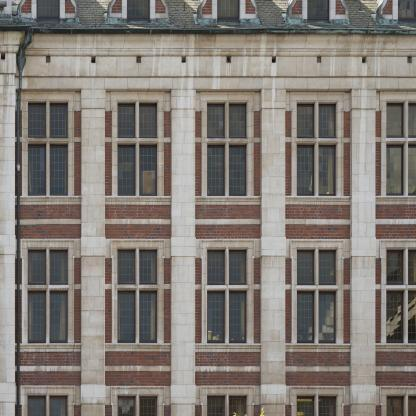Building Outline: (0, 0, 416, 416)
Facade: (15, 34, 415, 414)
Floor: (15, 56, 416, 226), (15, 226, 416, 373)
Floor Slab: (15, 219, 416, 226), (15, 366, 416, 373), (15, 49, 416, 56)
Ground Floor: (15, 372, 416, 415)
Pillar: (80, 89, 106, 416), (170, 89, 196, 416), (260, 89, 286, 416), (351, 89, 376, 416), (0, 53, 17, 416)
Roof: (0, 0, 416, 29)
Sill: (195, 343, 261, 353), (285, 343, 351, 353), (15, 343, 82, 352), (105, 343, 172, 352), (15, 196, 82, 205), (105, 196, 172, 205), (195, 196, 261, 205), (285, 196, 351, 205), (375, 343, 416, 353), (375, 196, 416, 205)
Top Floor: (15, 1, 416, 56)
Window: (207, 249, 248, 343), (207, 102, 248, 196), (28, 249, 68, 343), (118, 249, 158, 343), (297, 249, 337, 343), (28, 102, 68, 196), (118, 102, 158, 196), (297, 102, 337, 196), (386, 249, 416, 343), (386, 101, 416, 195), (28, 395, 68, 416), (118, 395, 158, 416), (208, 395, 248, 416), (297, 395, 337, 416), (386, 395, 416, 416), (127, 0, 150, 21), (217, 0, 240, 21), (308, 0, 331, 21), (36, 0, 59, 20), (398, 0, 416, 21)
